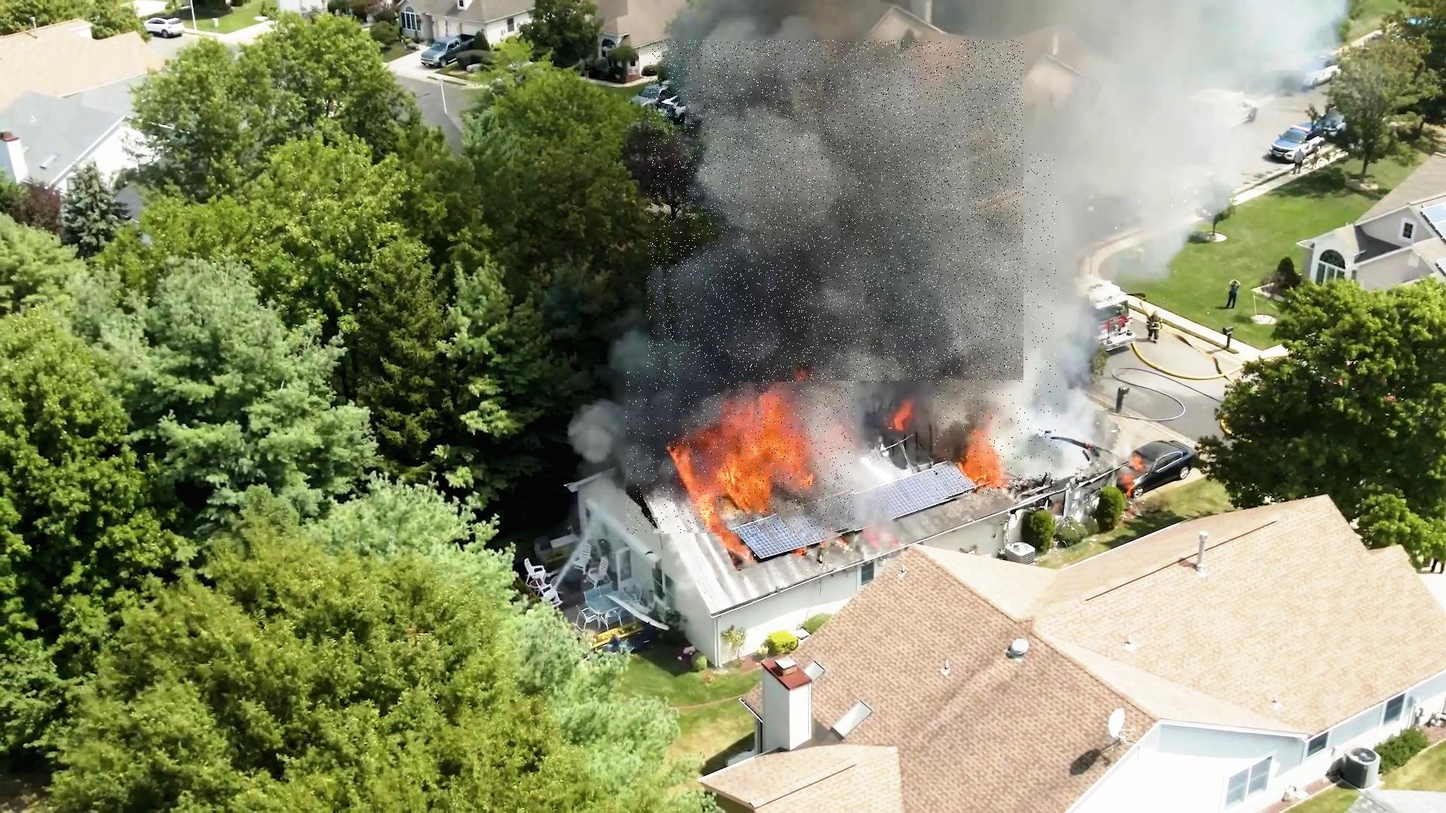fire: (626, 373, 855, 536)
smoke: (647, 40, 1024, 383), (934, 153, 1058, 500)
